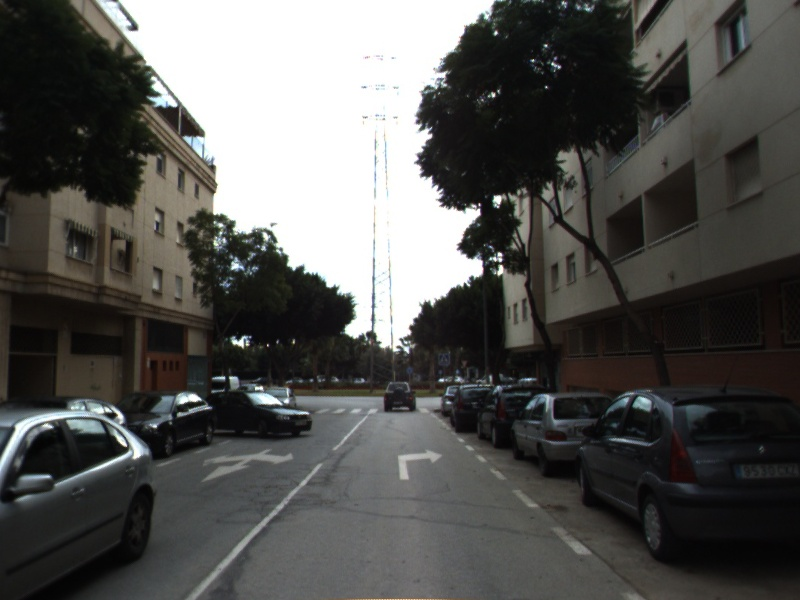RIGHT: (396, 447, 445, 482)
